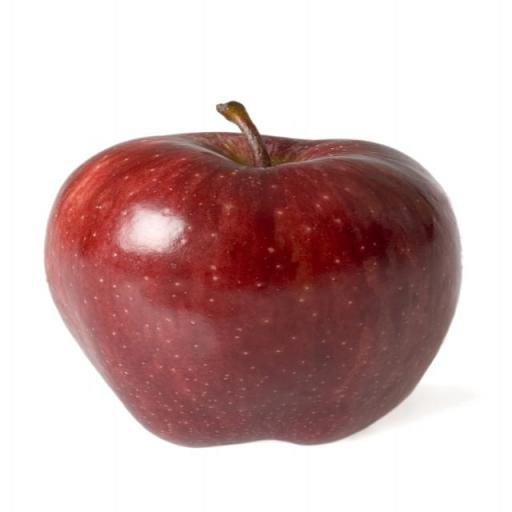fruit: (45, 102, 458, 444)
